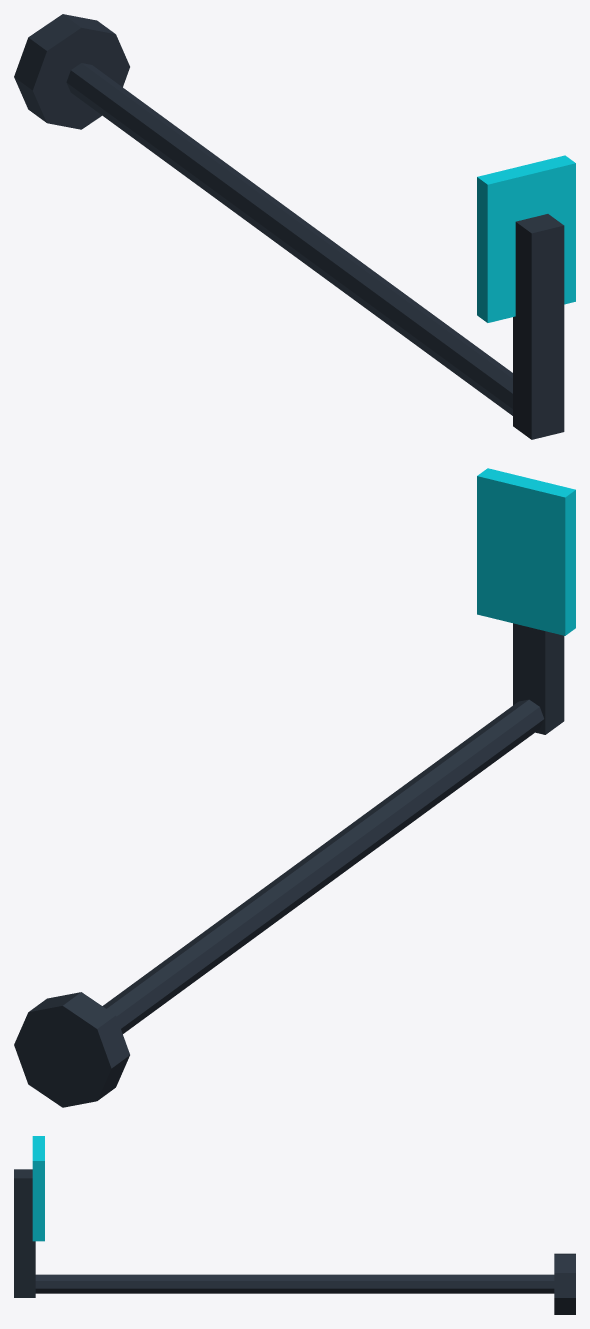
File: ENV_prop_streetlamp.obj
3 views of the same model, one above another, from view 1: azimuth 30°, elevation 25°; view 2: azimuth 150°, elevation 25°; view 3: azimuth 270°, elevation 25° (orthographic). The views are drawn at different scales.
Parts seen in each view (by area): view 1: ENV_prop_streetlamp; view 2: ENV_prop_streetlamp; view 3: ENV_prop_streetlamp.
Part boxes in pixels (x1,y1,x2,y2): ENV_prop_streetlamp: (14, 14, 575, 439); ENV_prop_streetlamp: (14, 468, 575, 1107); ENV_prop_streetlamp: (14, 1136, 575, 1314).
Size of the model in its own units: 0.42 by 1.17 by 3.62.
